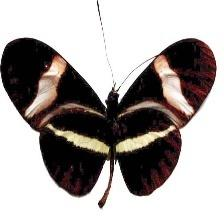butterfly: (0, 38, 216, 208)
